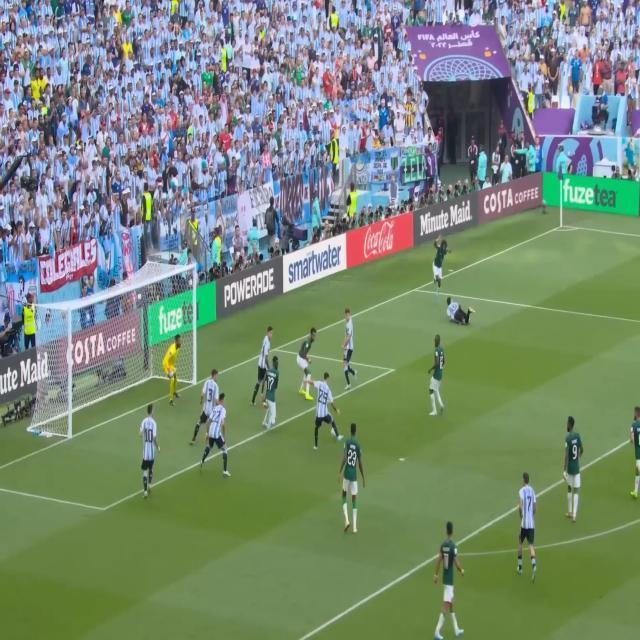player: (432, 515, 470, 640), (337, 422, 367, 541), (516, 465, 541, 586), (560, 413, 583, 534), (314, 368, 345, 453), (203, 393, 233, 479), (425, 332, 451, 423), (255, 319, 278, 414), (140, 403, 159, 501), (296, 319, 315, 407), (340, 310, 360, 393), (263, 352, 281, 439), (202, 366, 221, 446), (163, 333, 183, 404), (442, 292, 477, 330), (431, 229, 450, 295), (629, 399, 640, 507)
